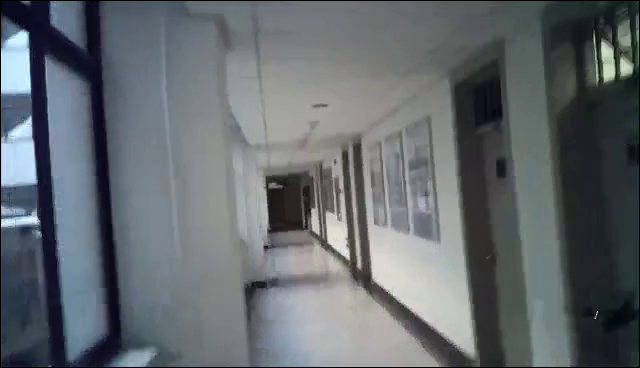drone: (563, 290, 640, 333)
